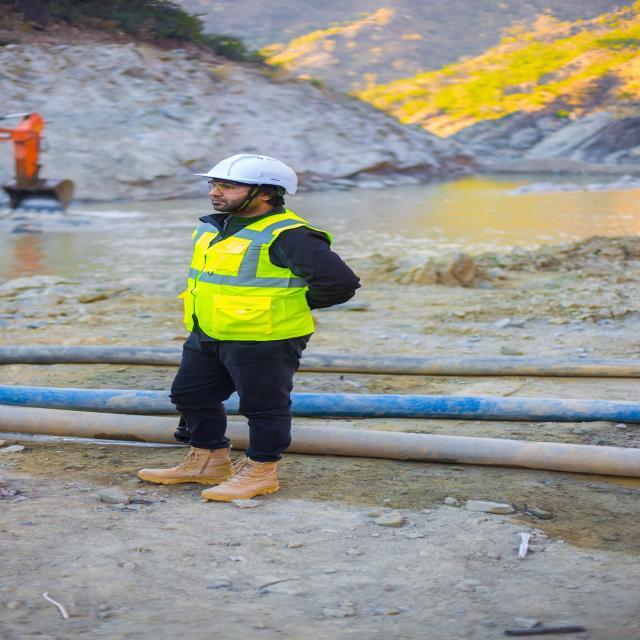goggles: (188, 176, 282, 198)
helmet: (178, 151, 328, 199)
vest: (158, 211, 347, 344)
